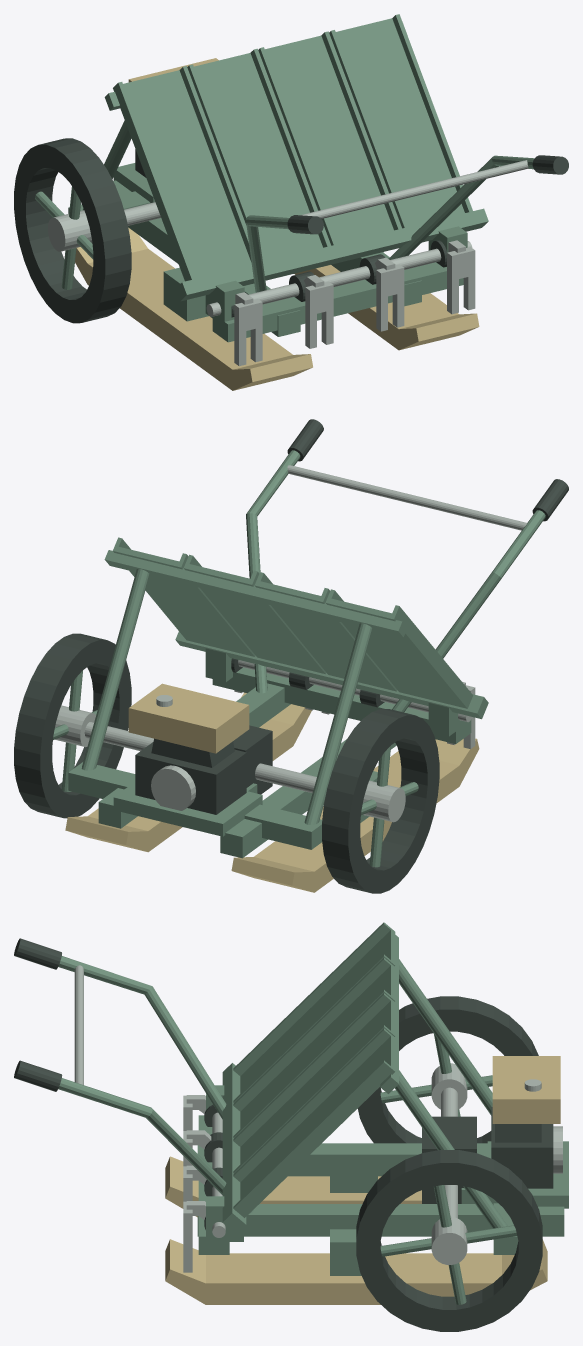
3 views of the same model, one above another, from view 1: azimuth 30°, elevation 25°; view 2: azimuth 150°, elevation 25°; view 3: azimuth 270°, elevation 25° (orthographic). The views are drawn at different scales.
Parts seen in each view (by area): view 1: WholeEmptyInclinedMatChannel0, WholeEmptyInclinedMatChannel2, WholeEmptyInclinedMatChannel3, WholeEmptyInclinedMatChannel1, WholeLeftLargeGroundWheelRim, WholeLeftUpturnedFloatBody, WholeRackLowerCrossKeeper, WholeRightUpturnedFloatBody, WholeFrontWideFrameCrossTie, WholeHandleCrossbar, WholeTransverseFixedPlantingShaft, WholeRightLongBentHandle (+16 smaller); view 2: WholeLeftLargeGroundWheelRim, WholeRightLargeGroundWheelRim, WholeLeftUpturnedFloatBody, WholeEmptyInclinedMatChannel0, WholeRearPlainFuelTank, WholeEmptyInclinedMatChannel2, WholeEmptyInclinedMatChannel3, WholeRackUpperRearCrossbar, WholeEmptyInclinedMatChannel1, WholeRightUpturnedFloatBody, WholeRearEngineCrankCase, WholeRearWideFrameCrossTie (+21 smaller); view 3: WholeRightLargeGroundWheelRim, WholeRightUpturnedFloatBody, WholeEmptyInclinedMatChannel3, WholeRightLongChassisRail, WholeLeftLargeGroundWheelRim, WholeEmptyInclinedMatChannel0, WholeEmptyInclinedMatChannel2, WholeEmptyInclinedMatChannel1, WholeRearPlainFuelTank, WholeLeftLongChassisRail, WholeLeftUpturnedFloatBody, WholeLeftLongBentHandle (+24 smaller).
Part boxes in pixels (box(x1,y1,x2,y2)): WholeEmptyInclinedMatChannel0: box(113, 66, 251, 281); WholeEmptyInclinedMatChannel2: box(258, 31, 401, 245); WholeEmptyInclinedMatChannel3: box(329, 14, 472, 228); WholeEmptyInclinedMatChannel1: box(187, 48, 331, 262); WholeLeftLargeGroundWheelRim: box(14, 138, 131, 323); WholeLeftUpturnedFloatBody: box(75, 227, 312, 390); WholeRackLowerCrossKeeper: box(175, 208, 488, 301); WholeRightUpturnedFloatBody: box(294, 265, 479, 350); WholeFrontWideFrameCrossTie: box(212, 262, 463, 342); WholeHandleCrossbar: box(281, 160, 528, 219); WholeTransverseFixedPlantingShaft: box(206, 241, 472, 316); WholeRightLongBentHandle: box(388, 155, 534, 259); WholeLeftLargeGroundWheelRim: box(322, 708, 439, 893); WholeRightLargeGroundWheelRim: box(14, 633, 131, 818); WholeLeftUpturnedFloatBody: box(231, 738, 479, 892); WholeEmptyInclinedMatChannel0: box(325, 589, 472, 708); WholeRearPlainFuelTank: box(128, 683, 249, 753); WholeEmptyInclinedMatChannel2: box(184, 554, 326, 674); WholeEmptyInclinedMatChannel3: box(113, 537, 255, 656); WholeRackUpperRearCrossbar: box(104, 550, 407, 637); WholeEmptyInclinedMatChannel1: box(254, 572, 397, 691); WholeRightUpturnedFloatBody: box(65, 692, 311, 852); WholeRearEngineCrankCase: box(135, 742, 246, 814); WholeRearWideFrameCrossTie: box(68, 762, 322, 849); WholeRightLargeGroundWheelRim: box(356, 1150, 542, 1331); WholeRightUpturnedFloatBody: box(165, 1239, 547, 1304); WholeEmptyInclinedMatChannel3: box(233, 1028, 395, 1217); WholeRightLongChassisRail: box(197, 1204, 564, 1236); WholeLeftLargeGroundWheelRim: box(357, 996, 538, 1143); WholeEmptyInclinedMatChannel0: box(233, 922, 395, 1102); WholeEmptyInclinedMatChannel2: box(233, 993, 395, 1173); WholeEmptyInclinedMatChannel1: box(233, 958, 395, 1138); WholeRearPlainFuelTank: box(492, 1056, 560, 1123); WholeLeftLongChassisRail: box(197, 1143, 487, 1176); WholeLeftUpturnedFloatBody: box(165, 1156, 421, 1217); WholeLeftLongBentHandle: box(58, 956, 226, 1119).
Bounding box in the file's own units: 1.68 × 1.18 × 2.32.
